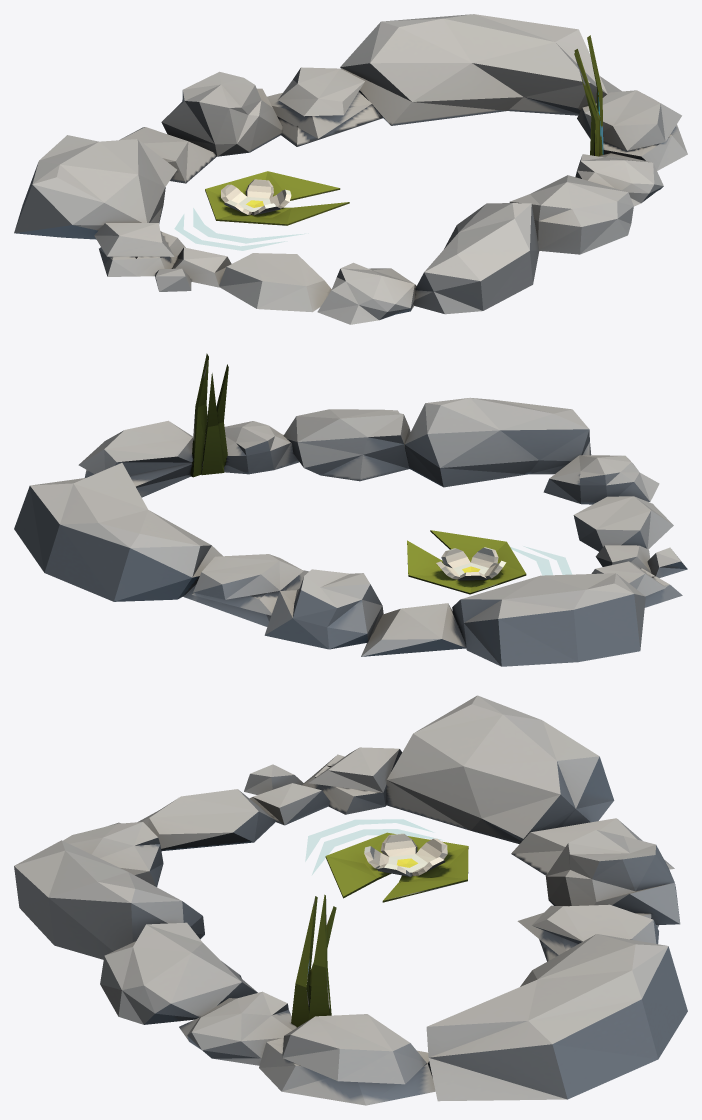
The model's file is pond_1_lev1.glb.
3 views of the same model, one above another, from view 1: azimuth 30°, elevation 25°; view 2: azimuth 150°, elevation 25°; view 3: azimuth 270°, elevation 25° (orthographic). The views are drawn at different scales.
Visible parts, largest first — view 1: pond_1_lev1; view 2: pond_1_lev1; view 3: pond_1_lev1.
Part boxes in pixels (x1=…): pond_1_lev1: x1=14, y1=14, x2=687, y2=324; pond_1_lev1: x1=14, y1=353, x2=687, y2=666; pond_1_lev1: x1=14, y1=695, x2=687, y2=1105.
Size of the model in its own units: 1.09 by 0.2155 by 0.8734.
1 material, 1 textured.
